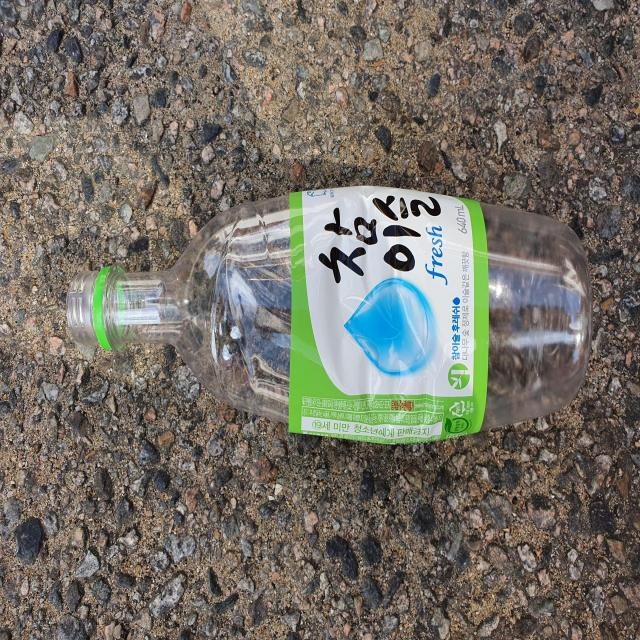plastic: (66, 185, 593, 444)
